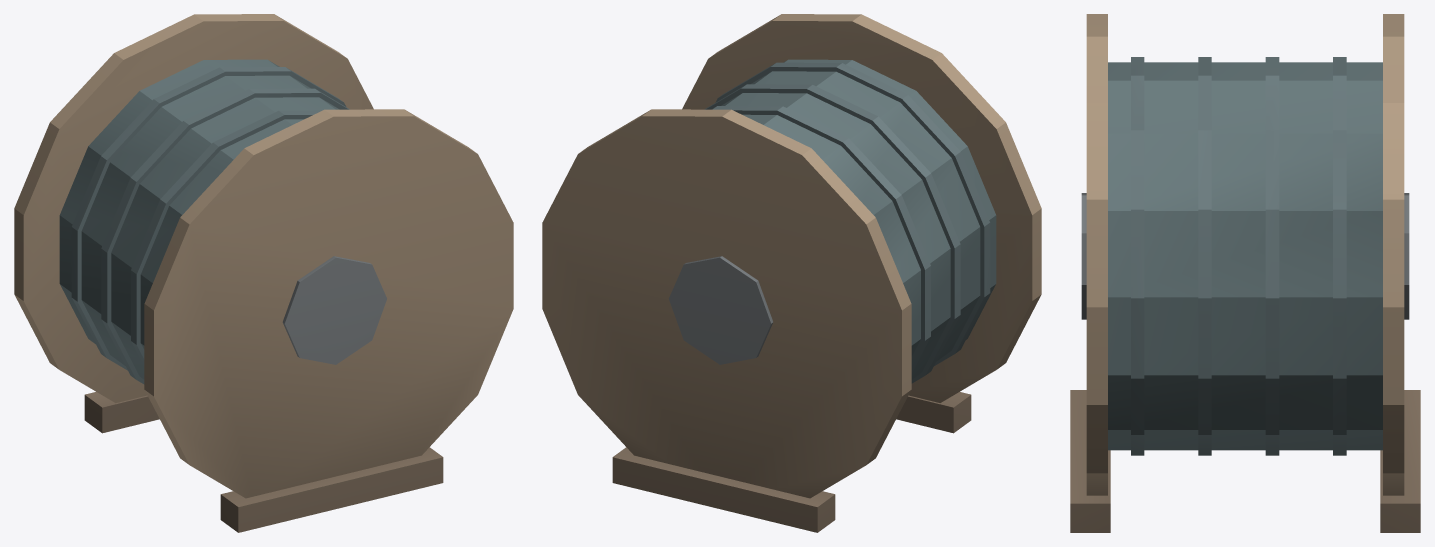
Rendered from mil_cable_drum.glb.
3 renders of one model, left to right at view 1: azimuth 30°, elevation 25°; view 2: azimuth 150°, elevation 25°; view 3: azimuth 270°, elevation 25°, orthographic. The views are drawn at different scales.
Visible parts, largest first — view 1: mil_cable_drum; view 2: mil_cable_drum; view 3: mil_cable_drum.
Boxes of the visible parts, x1,y1,x2,y2 form: mil_cable_drum: (14,14,513,532); mil_cable_drum: (542,14,1041,532); mil_cable_drum: (1070,14,1420,532).
Bounding box in the file's own units: 1.75 × 1.8 × 1.3.
